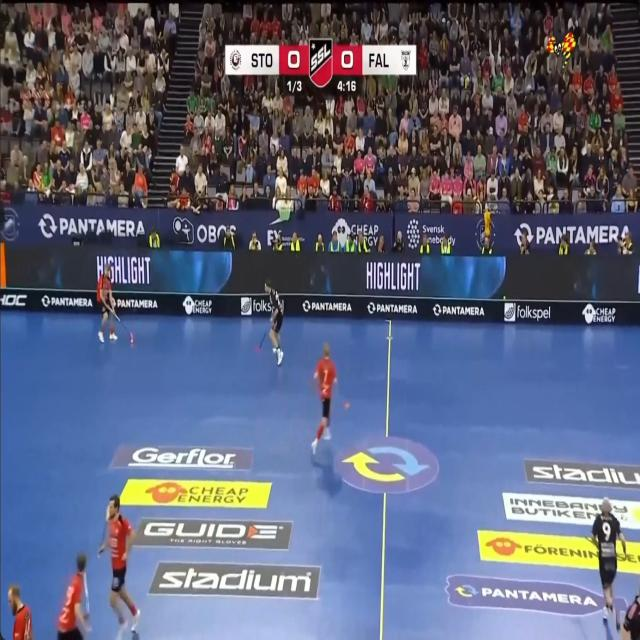Balls: (131, 334, 134, 345)
player: (99, 494, 139, 639), (591, 498, 626, 631), (312, 343, 337, 453), (58, 553, 89, 639), (264, 279, 283, 365), (97, 265, 117, 342), (8, 585, 33, 639), (620, 593, 640, 639)
